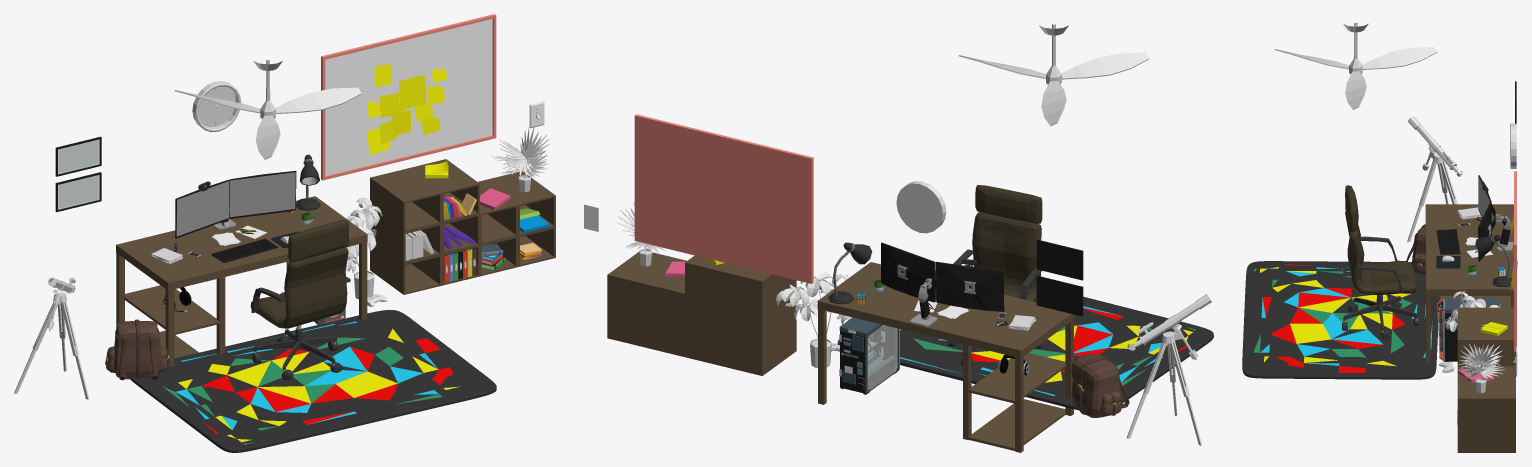
Rendered from scene_room_nc.glb.
The picture shows the model from 3 angles, left to right: view 1: azimuth 30°, elevation 25°; view 2: azimuth 150°, elevation 25°; view 3: azimuth 270°, elevation 25°; orthographic projection. The views are drawn at different scales.
Visible parts, largest first — view 1: Carpet, GroupWhiteBoard, GroupShelf, ComputerDesk1, Chair, Sticky notes, Ceiling Fan.001, Backpack, Screen2, Screen1, Telescope.001, Analog_Cock.001 (+10 smaller); view 2: GroupWhiteBoard, GroupShelf, ComputerDesk1, Carpet, Chair, GroupDualScreen, GroupGamingComputer, Ceiling Fan.001, Backpack, Telescope.001, Analog_Cock.001, CoffePlant_mehs.001 (+4 smaller); view 3: Carpet, GroupShelf, ComputerDesk1, Chair, Ceiling Fan.001, Telescope.001, GroupGamingComputer, UmbrellaPalmTree_mesh.001, GroupDualScreen, Backpack, Light Desk, CoffePlant_mehs.001 (+3 smaller).
Part boxes in pixels (x1,y1,x2,y2): Carpet: [130, 310, 496, 452]; GroupWhiteBoard: [321, 14, 496, 180]; GroupShelf: [370, 159, 555, 294]; ComputerDesk1: [116, 196, 367, 366]; Chair: [250, 220, 350, 380]; Sticky notes: [366, 63, 446, 154]; Ceiling Fan.001: [174, 60, 361, 159]; Backpack: [105, 319, 169, 380]; Screen2: [229, 172, 295, 217]; Screen1: [176, 181, 229, 236]; Telescope.001: [14, 277, 89, 399]; Analog_Cock.001: [192, 81, 241, 132]; GroupWhiteBoard: [634, 114, 813, 283]; GroupShelf: [607, 251, 796, 375]; ComputerDesk1: [817, 262, 1074, 452]; Carpet: [837, 271, 1213, 410]; Chair: [948, 185, 1042, 365]; GroupDualScreen: [881, 242, 1004, 326]; GroupGamingComputer: [839, 317, 899, 394]; Ceiling Fan.001: [958, 24, 1149, 126]; Backpack: [1071, 354, 1129, 417]; Telescope.001: [1126, 294, 1211, 445]; Analog_Cock.001: [896, 181, 946, 233]; CoffePlant_mehs.001: [776, 272, 851, 367]; Carpet: [1242, 261, 1439, 379]; GroupShelf: [1457, 307, 1515, 452]; ComputerDesk1: [1425, 204, 1516, 376]; Chair: [1342, 185, 1419, 339]; Ceiling Fan.001: [1274, 22, 1437, 109]; Telescope.001: [1407, 116, 1463, 242]; GroupGamingComputer: [1437, 298, 1500, 361]; UmbrellaPalmTree_mesh.001: [1458, 344, 1505, 393]; GroupDualScreen: [1478, 175, 1513, 261]; Backpack: [1406, 224, 1425, 274]; Light Desk: [1475, 234, 1511, 286]; CoffePlant_mehs.001: [1443, 290, 1499, 331].
Size of the model in its own units: 5.42 by 3.11 by 2.62.
